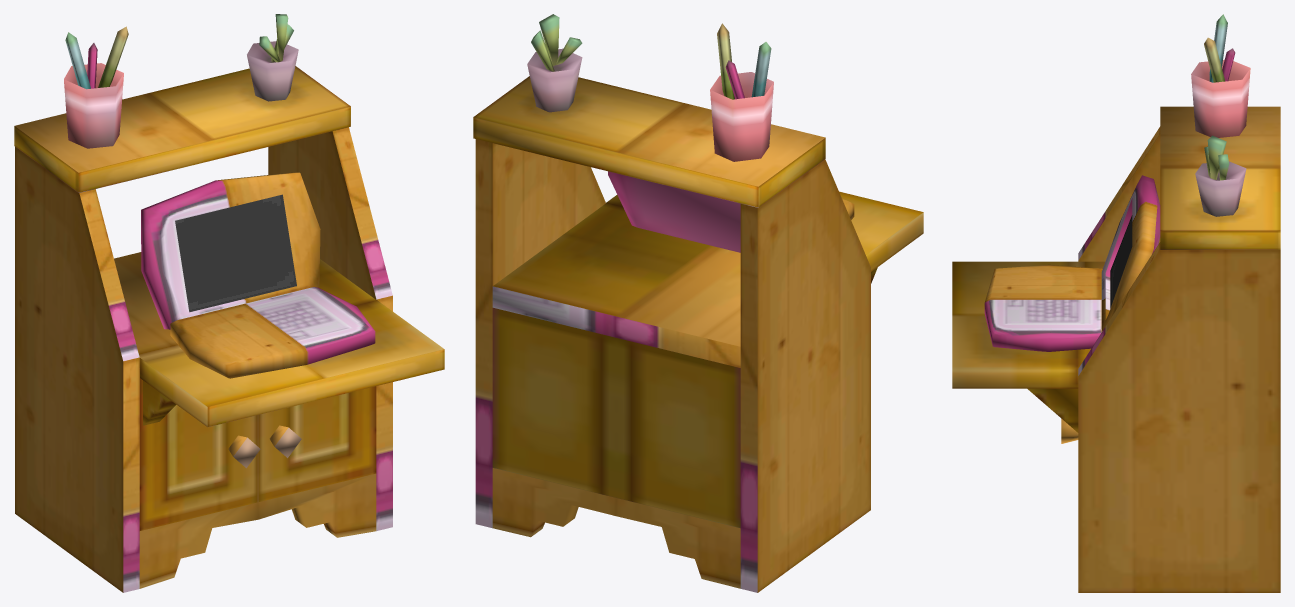
The model's file is int_oth_computer_prv.dae.
3 views of the same model, side by side, from view 1: azimuth 30°, elevation 25°; view 2: azimuth 150°, elevation 25°; view 3: azimuth 270°, elevation 25° (orthographic). The views are drawn at different scales.
Visible parts, largest first — view 1: int_oth_computer_prv; view 2: int_oth_computer_prv; view 3: int_oth_computer_prv.
Boxes of the visible parts, x1,y1,x2,y2 form: int_oth_computer_prv: [14, 14, 444, 592]; int_oth_computer_prv: [473, 14, 923, 592]; int_oth_computer_prv: [952, 14, 1280, 592].
Bounding box in the file's own units: 27.69 × 48.46 × 30.9.
Materials: 2 (2 with a texture image).
